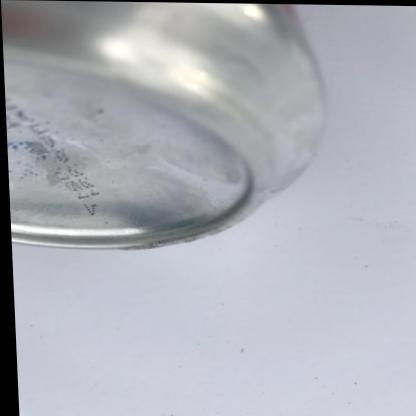trash: (3, 0, 322, 247)
